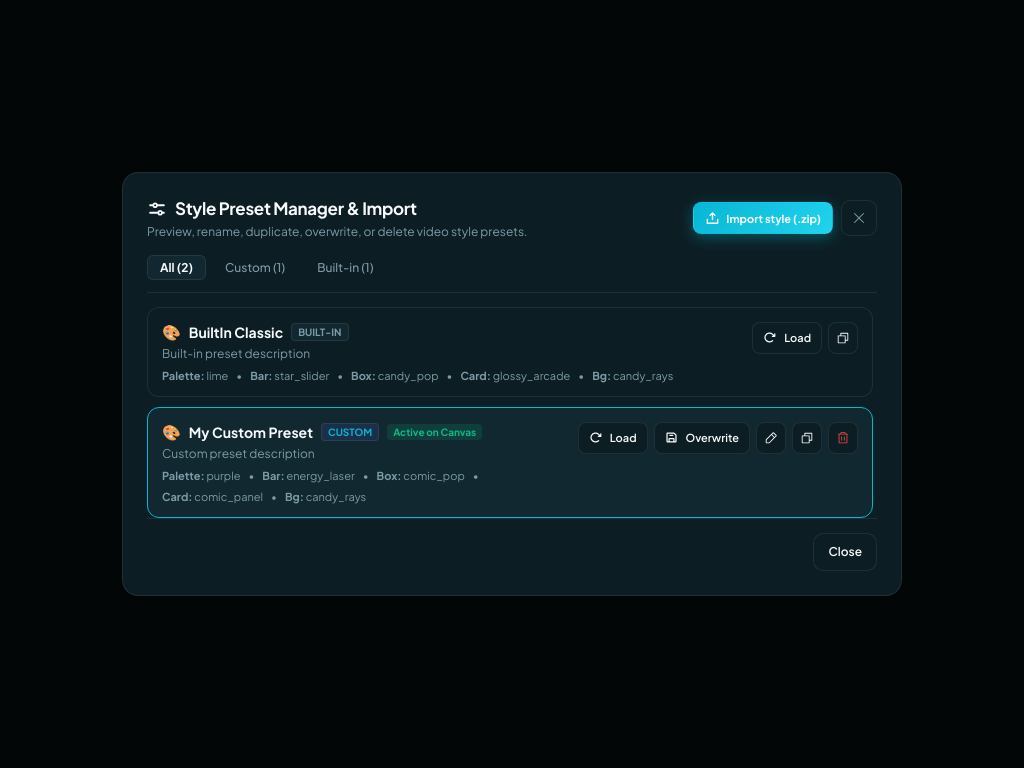
Test: SandboxPresetManagerModal › renders presets and filters tabs properly
This screenshot has width=1024, height=768.
Expected: the text "BuiltIn Classic" is shown, [189, 322, 283, 340]
Expected: the text "My Custom Preset" is shown, [189, 422, 313, 440]
Note: Click Built-in tab
Click the button "Built-in (1)": (345, 267) [304, 254, 386, 280]
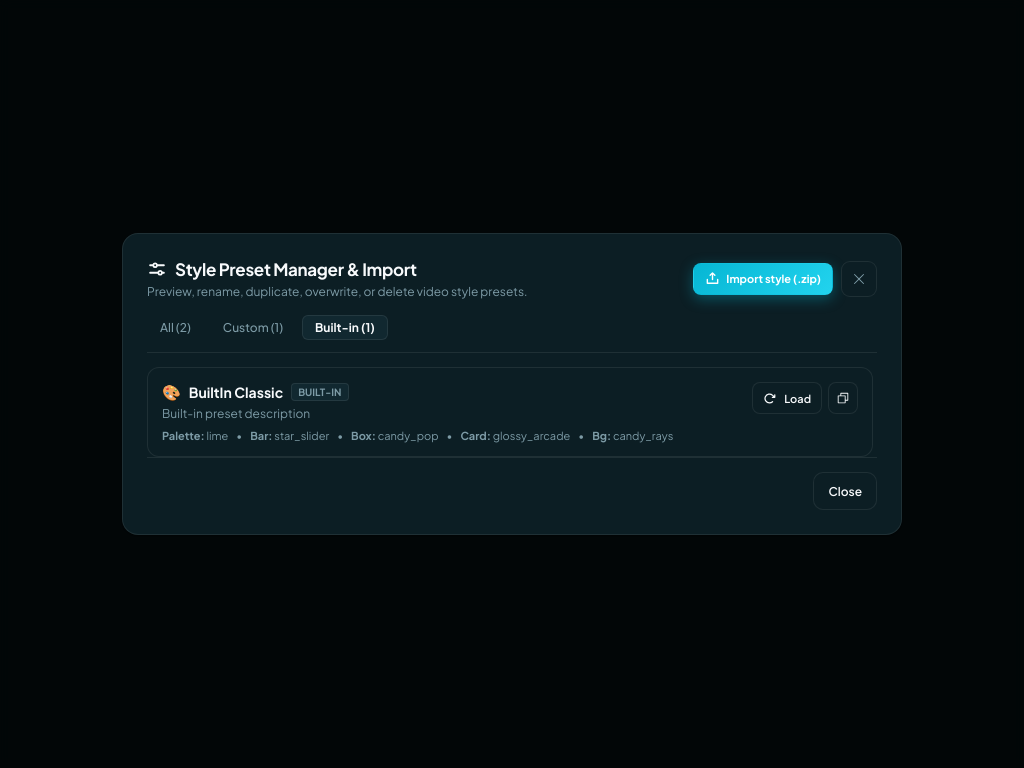
Expected: the text "BuiltIn Classic" is shown, [189, 383, 283, 401]
Expected: the text "My Custom Preset" is gone
Note: Click Custom tab
Click the button "Custom (1)": (253, 328) [210, 315, 296, 340]
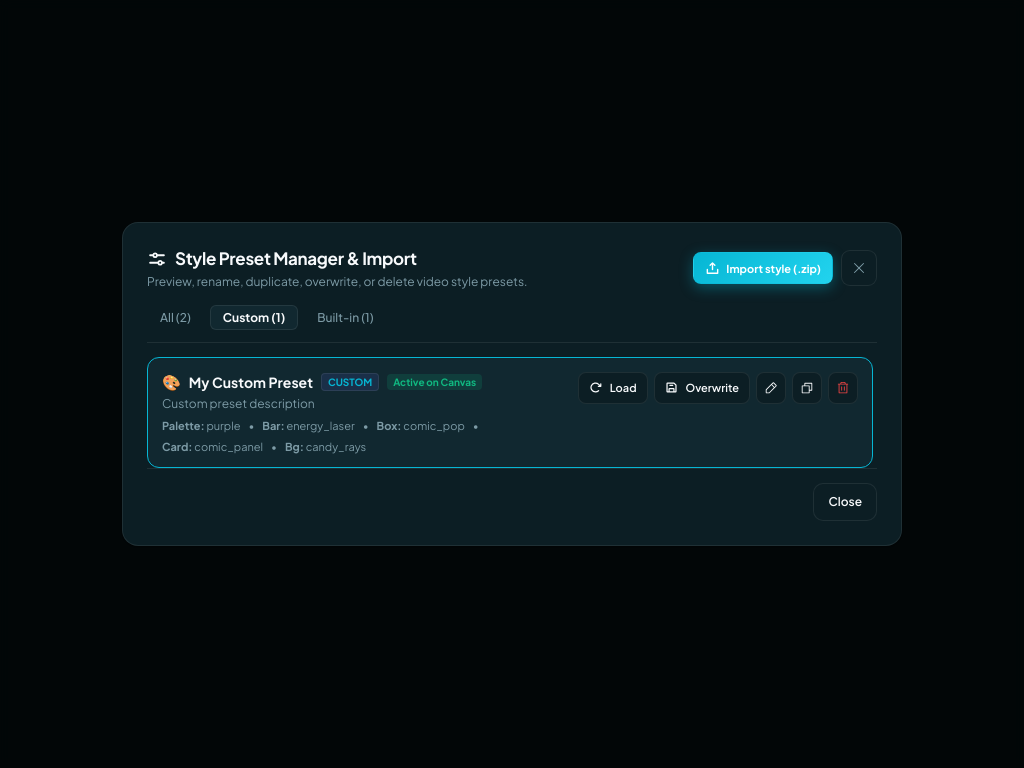
Expected: the text "BuiltIn Classic" is gone
Expected: the text "My Custom Preset" is shown, [189, 372, 313, 390]
